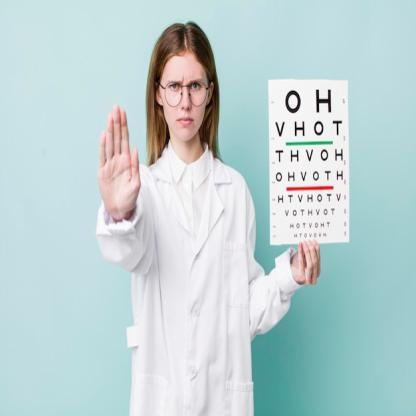stop: (96, 102, 144, 221)
